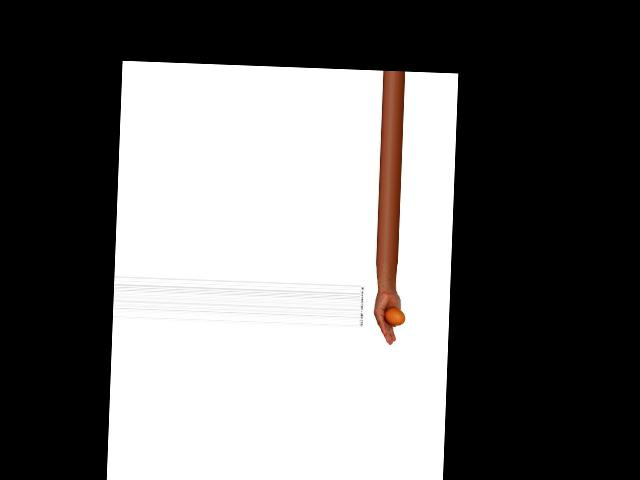egg: (383, 307, 405, 326)
